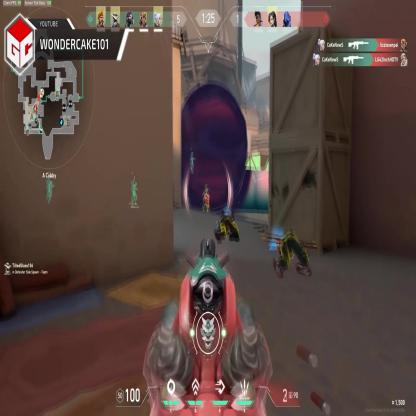enemy: (202, 190, 212, 213)
enemy_head: (205, 188, 209, 196)
